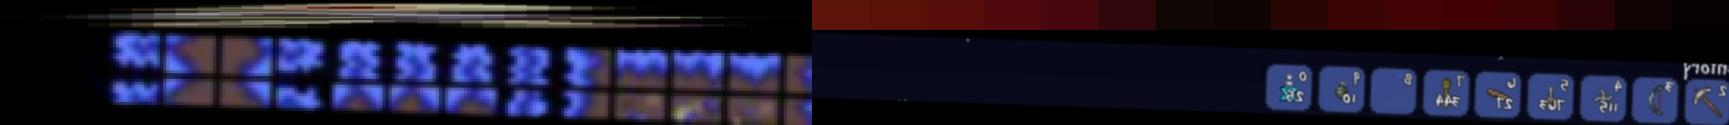dirt: (780, 55, 812, 96)
heart: (812, 0, 1729, 30)
zombie: (0, 0, 812, 30)
